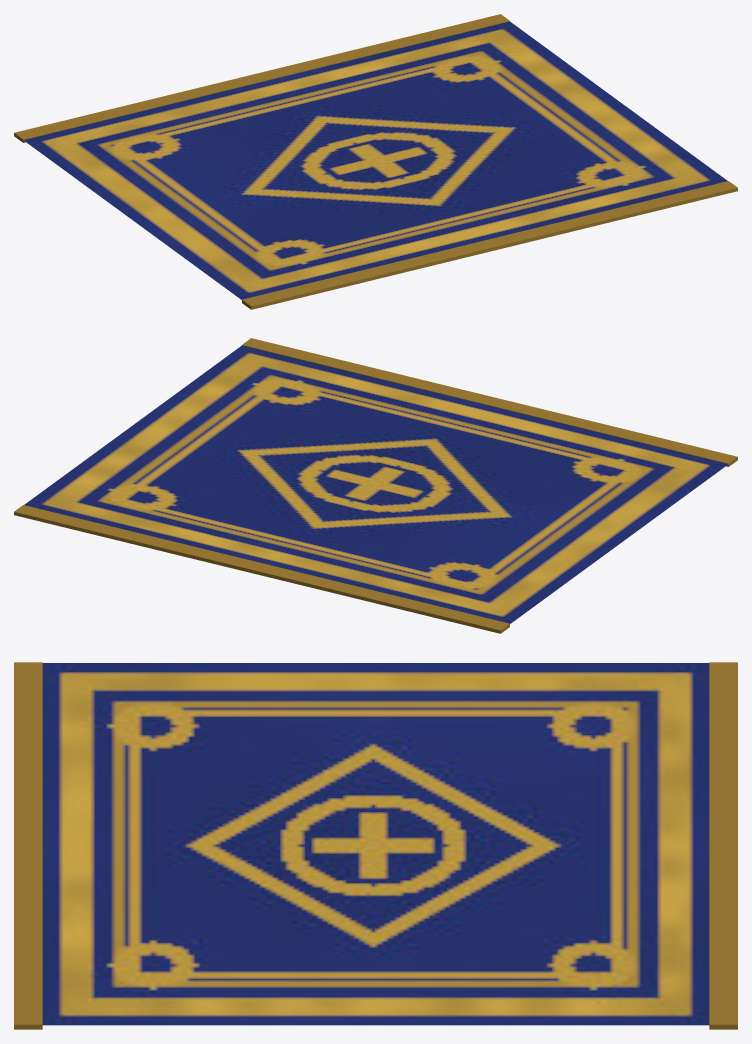
File: prop_tapijt_blue.glb
3 renders of one model, top to bottom at view 1: azimuth 30°, elevation 25°; view 2: azimuth 150°, elevation 25°; view 3: azimuth 270°, elevation 25°, orthographic. The views are drawn at different scales.
Visible parts, largest first — view 1: prop_tapijt_blue; view 2: prop_tapijt_blue; view 3: prop_tapijt_blue.
Boxes of the visible parts, x1,y1,x2,y2 form: prop_tapijt_blue: (14, 14, 737, 309); prop_tapijt_blue: (14, 338, 737, 633); prop_tapijt_blue: (14, 662, 737, 1029).
Bounding box in the file's own units: 0.9 × 0.006 × 0.76.
1 material, 1 textured.
